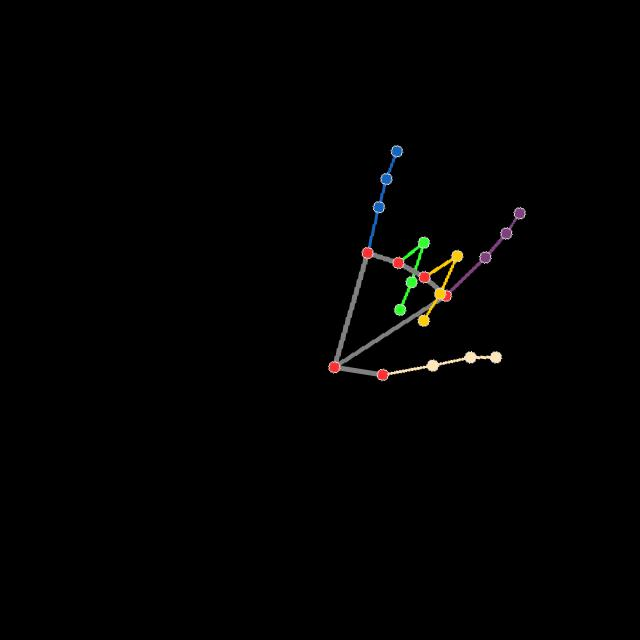spiderman: (328, 138, 534, 399)
